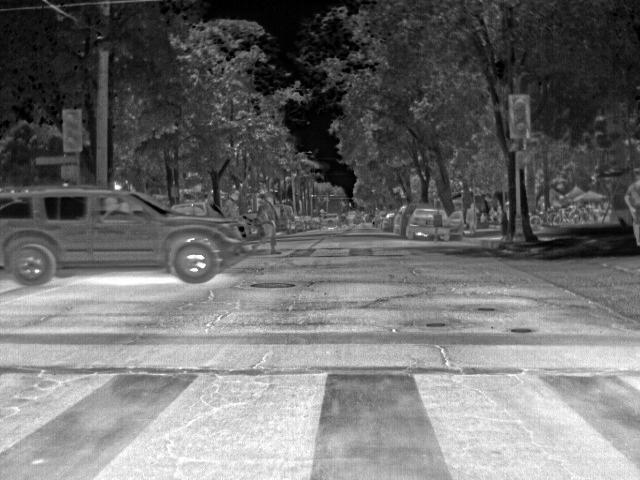car: (2, 185, 250, 284), (166, 199, 221, 223), (407, 206, 435, 241), (442, 207, 462, 241), (274, 202, 293, 234), (393, 206, 411, 234), (384, 212, 397, 232)
person: (253, 195, 280, 253), (218, 190, 246, 236), (623, 175, 639, 253), (461, 201, 480, 236), (320, 211, 342, 230)
